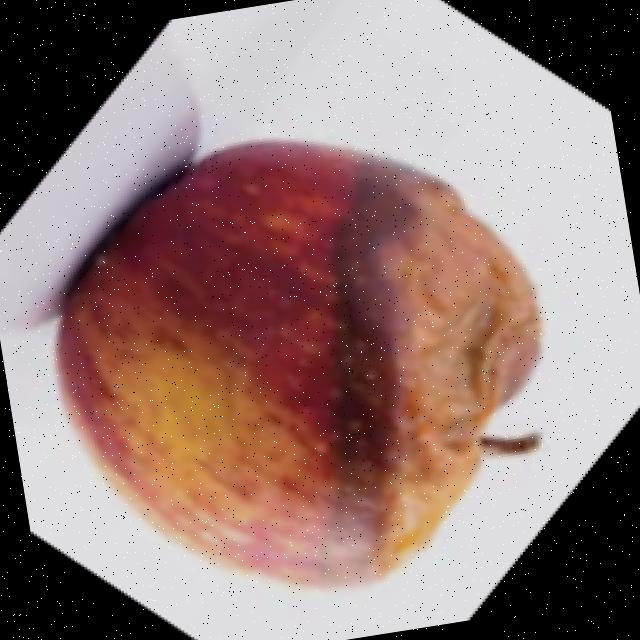Rotten: (20, 92, 602, 634)
